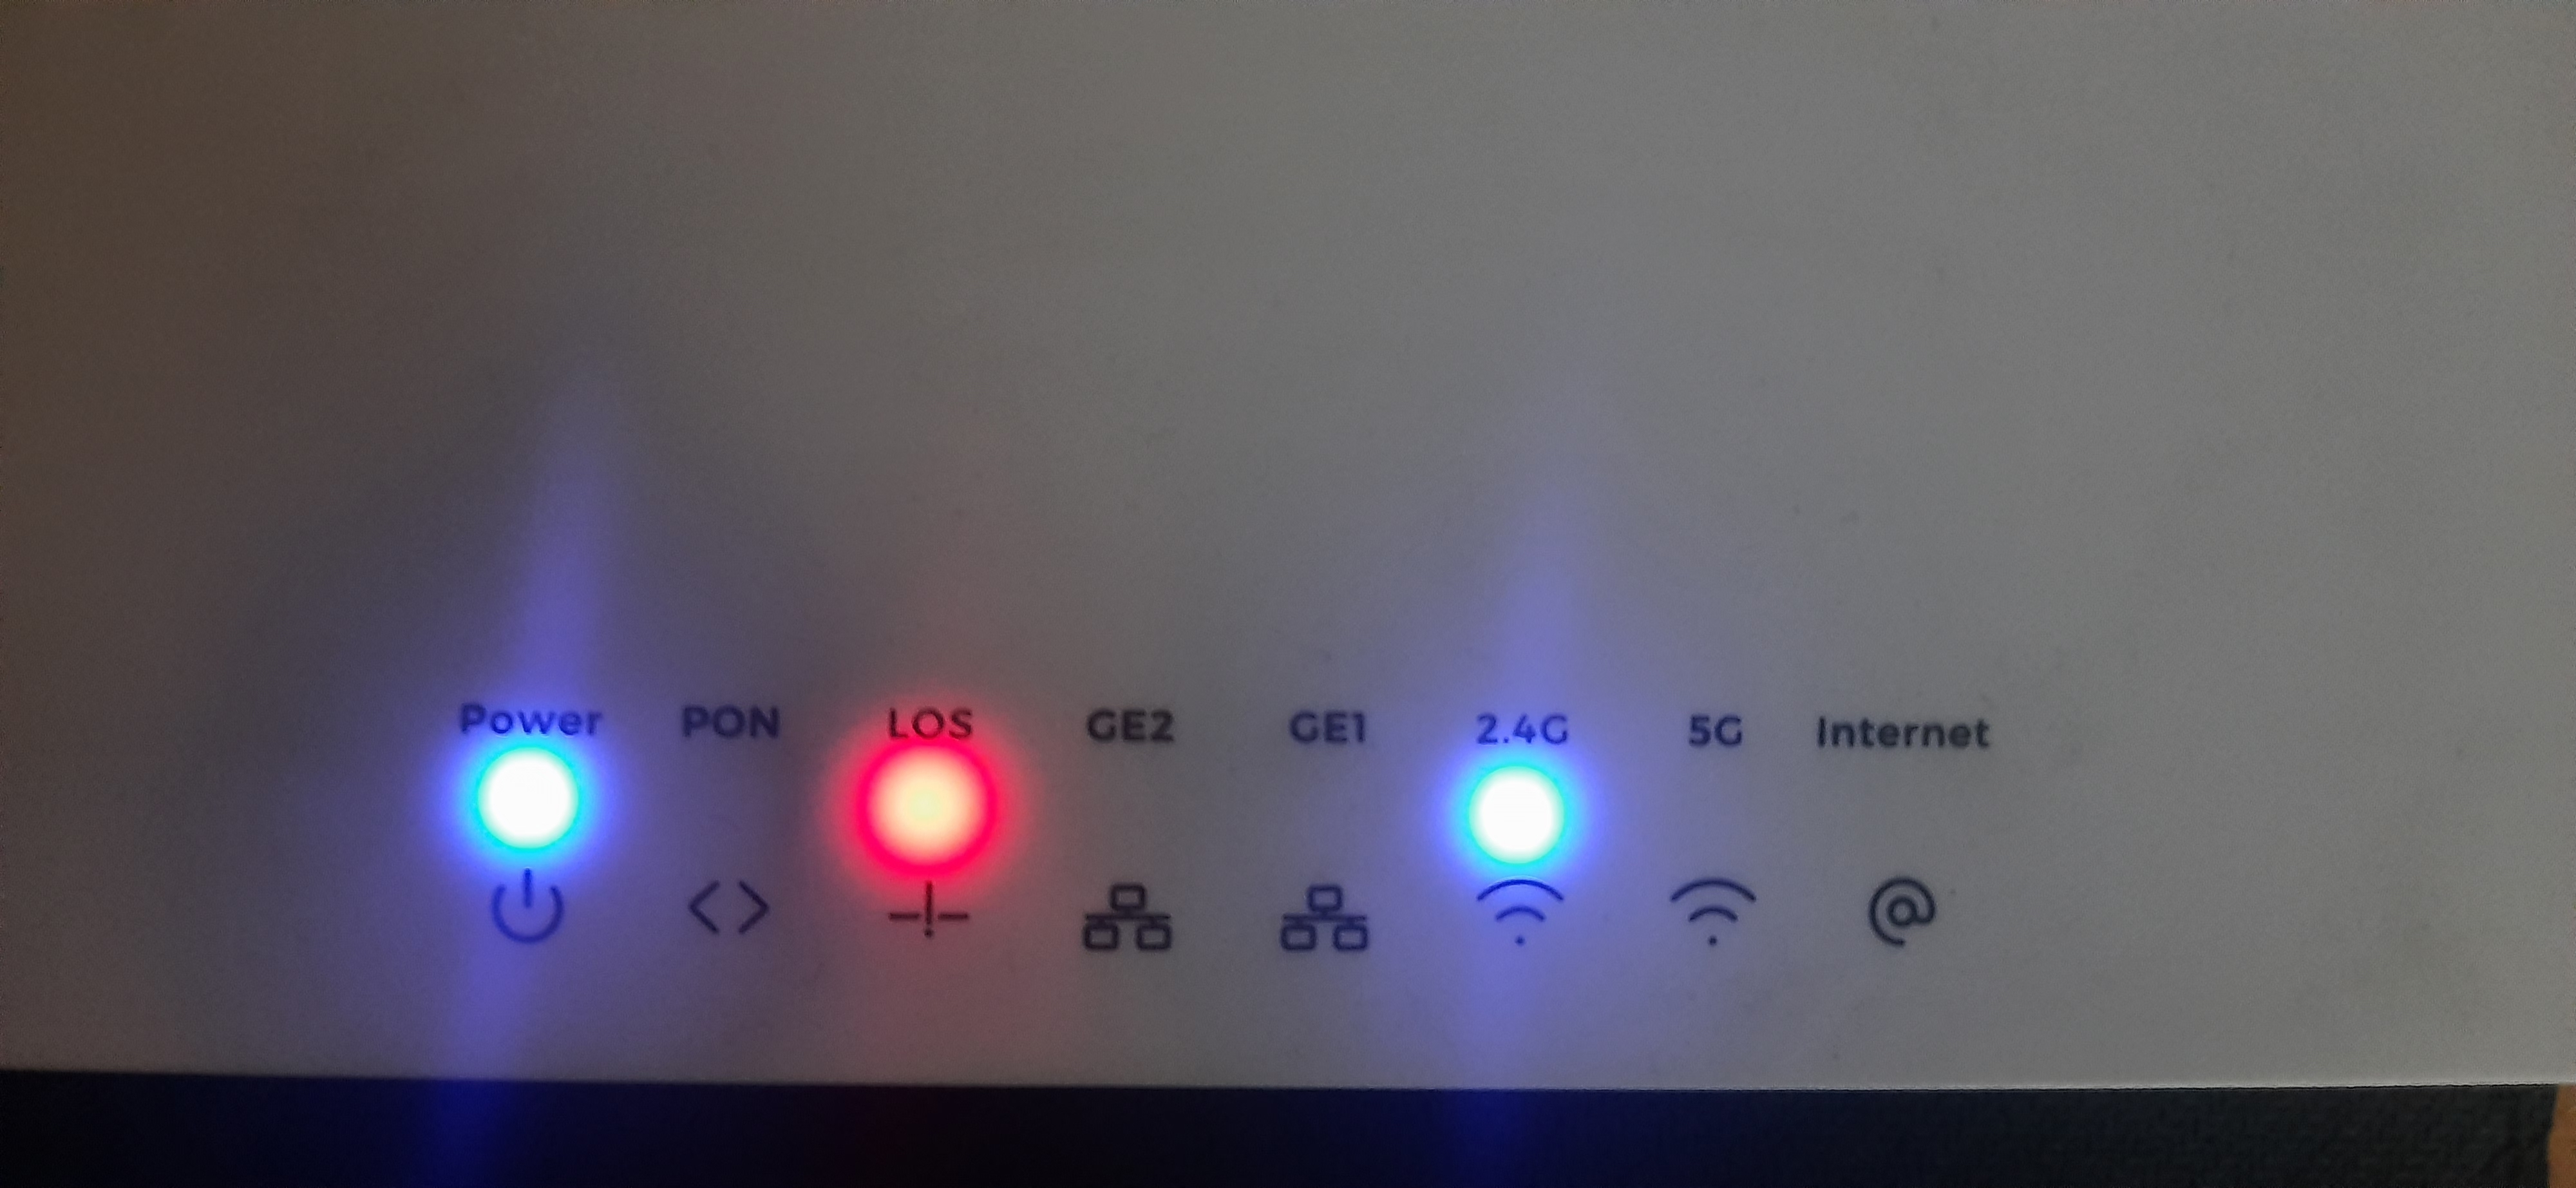LOSConnectionIssue: (780, 675, 1058, 961)
